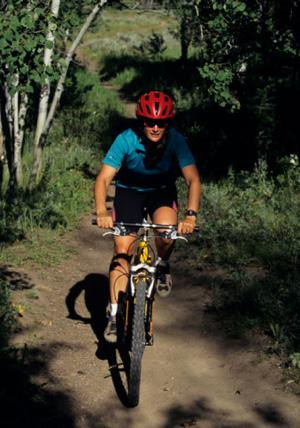person: (94, 89, 203, 345)
